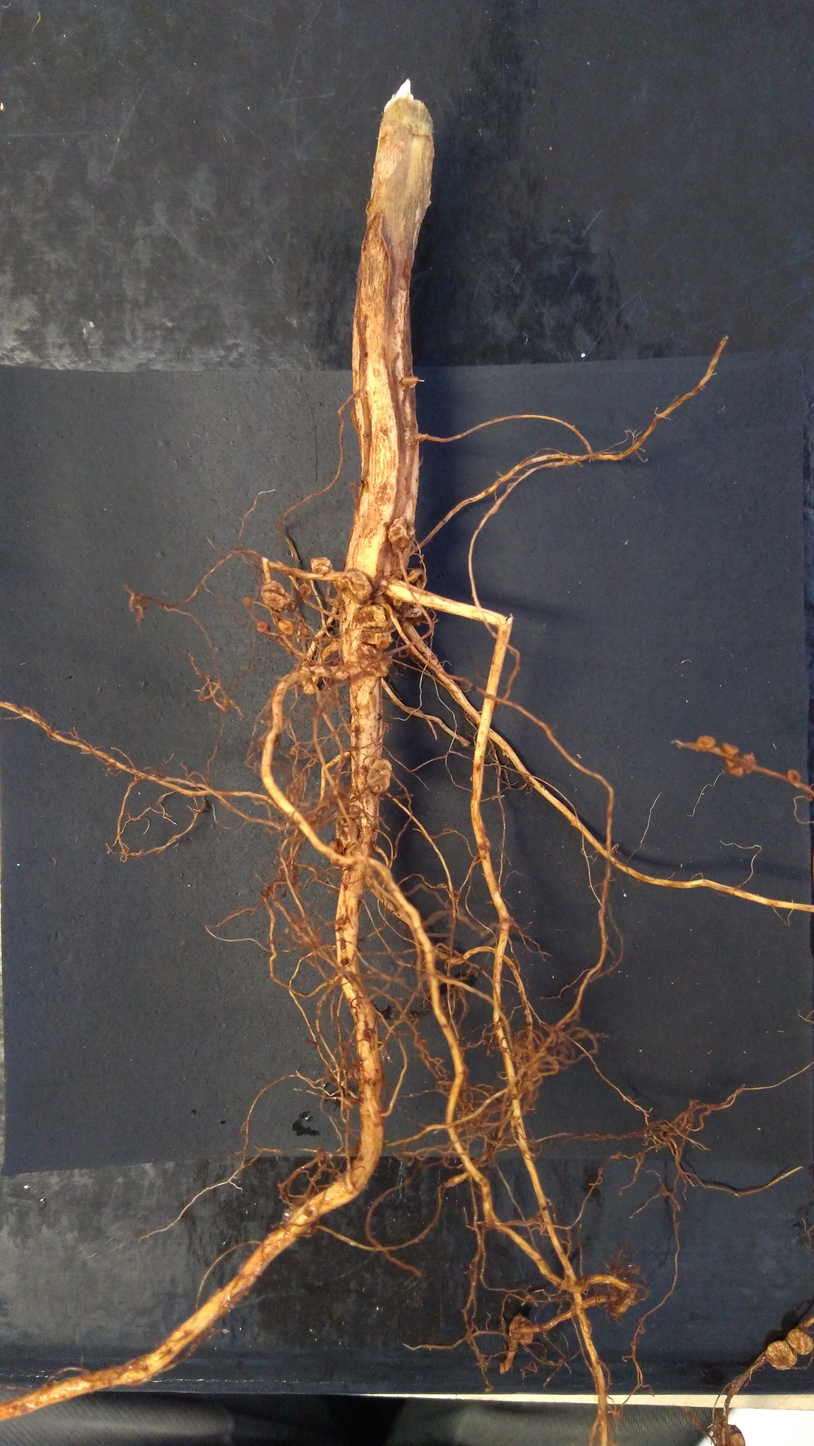nodule: (331, 568, 376, 604), (355, 642, 395, 680), (760, 1337, 798, 1377), (362, 755, 396, 797), (258, 578, 295, 614), (386, 516, 419, 553), (352, 603, 395, 631), (505, 1312, 538, 1348), (720, 752, 760, 781), (785, 1321, 814, 1359), (355, 628, 397, 652), (718, 1417, 750, 1445), (402, 565, 432, 590), (306, 555, 337, 577), (274, 615, 298, 640), (300, 676, 322, 698), (324, 833, 345, 856), (695, 732, 718, 752), (252, 615, 271, 635), (718, 740, 739, 756), (786, 766, 803, 784), (242, 593, 255, 611)
